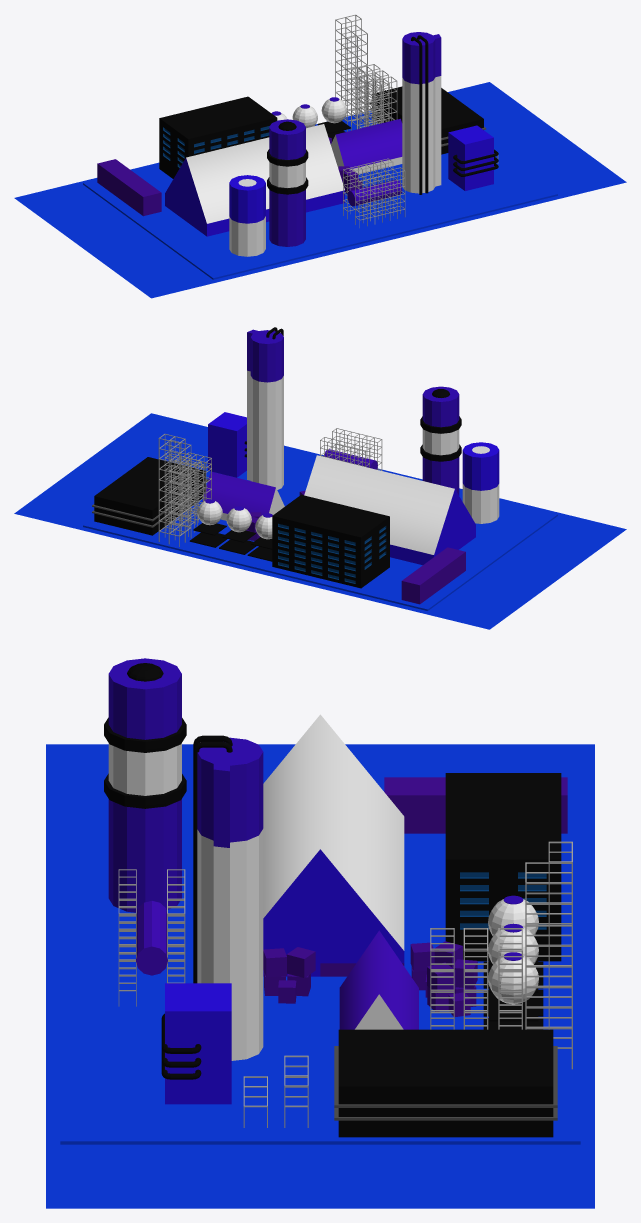
File: factory_blue.fbx
The picture shows the model from 3 angles, top to bottom: view 1: azimuth 30°, elevation 25°; view 2: azimuth 150°, elevation 25°; view 3: azimuth 270°, elevation 25°; orthographic projection. The views are drawn at different scales.
Parts seen in each view (by area): view 1: ten_ght, pPlane1, pCube14, pCylinder15, pCube272, pCylinder17, pCube19, pCylinder18, pCube47, pCube41, pCube15, pCylinder20 (+4 smaller); view 2: ten_ght, pPlane1, pCube14, pCube272, pCylinder15, pCube15, pCylinder17, pCylinder18, pCube19, pCube47, pCube41, pSphere8 (+2 smaller); view 3: pPlane1, ten_ght, pCube14, pCube15, pCylinder15, pCube272, pCylinder17, pCube47, pCube19, pCube41, pCylinder20, pSphere12 (+5 smaller).
Boxes of the visible parts, x1=… form: ten_ght: x1=14, y1=82, x2=626, y2=298; pPlane1: x1=83, y1=113, x2=557, y2=279; pCube14: x1=165, y1=124, x2=344, y2=236; pCylinder15: x1=402, y1=32, x2=441, y2=193; pCube272: x1=159, y1=96, x2=277, y2=178; pCylinder17: x1=267, y1=119, x2=308, y2=246; pCube19: x1=331, y1=118, x2=402, y2=174; pCylinder18: x1=229, y1=175, x2=265, y2=256; pCube47: x1=448, y1=125, x2=493, y2=190; pCube41: x1=97, y1=159, x2=161, y2=216; pCube15: x1=369, y1=86, x2=486, y2=154; pCylinder20: x1=347, y1=179, x2=402, y2=206; ten_ght: x1=14, y1=413, x2=626, y2=629; pPlane1: x1=83, y1=434, x2=557, y2=610; pCube14: x1=304, y1=455, x2=475, y2=565; pCube272: x1=272, y1=494, x2=389, y2=588; pCylinder15: x1=247, y1=329, x2=283, y2=489; pCube15: x1=92, y1=457, x2=208, y2=535; pCylinder17: x1=420, y1=386, x2=461, y2=495; pCylinder18: x1=462, y1=442, x2=499, y2=523; pCube19: x1=202, y1=471, x2=284, y2=520; pCube47: x1=208, y1=412, x2=246, y2=477; pCube41: x1=401, y1=547, x2=465, y2=604; pSphere8: x1=226, y1=508, x2=251, y2=532; pPlane1: x1=60, y1=805, x2=580, y2=1144; ten_ght: x1=46, y1=744, x2=594, y2=1208; pCube14: x1=263, y1=714, x2=404, y2=976; pCube15: x1=334, y1=1029, x2=557, y2=1137; pCylinder15: x1=197, y1=737, x2=263, y2=1060; pCube272: x1=445, y1=773, x2=561, y2=961; pCylinder17: x1=104, y1=658, x2=186, y2=912; pCube47: x1=165, y1=983, x2=231, y2=1104; pCube19: x1=339, y1=930, x2=418, y2=1029; pCube41: x1=384, y1=777, x2=567, y2=833; pCylinder20: x1=136, y1=901, x2=167, y2=975; pSphere12: x1=488, y1=955, x2=538, y2=1004.
Size of the model in its own units: 10 by 3.09 by 5.
